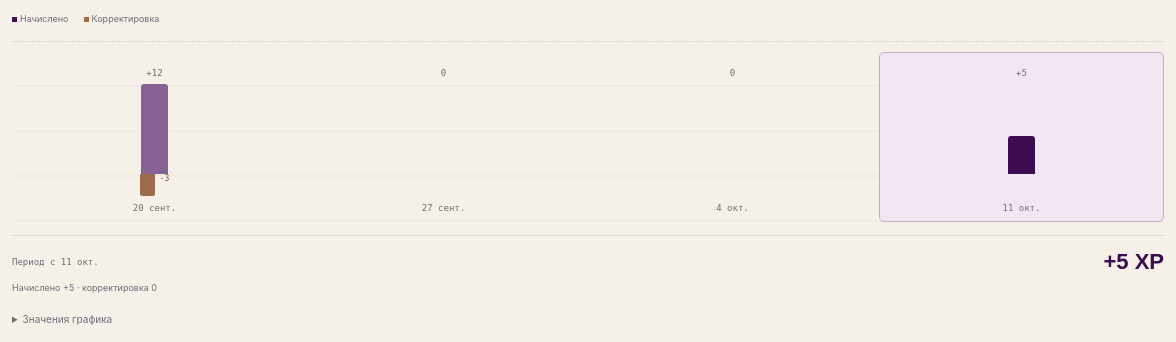
Test case: XP chart period selection › keeps signed corrections and the actual net value when selecting a period by touch/click
Step 1. Click the button "+12 -3 20 сент." → (154, 137), box [12, 52, 297, 222]
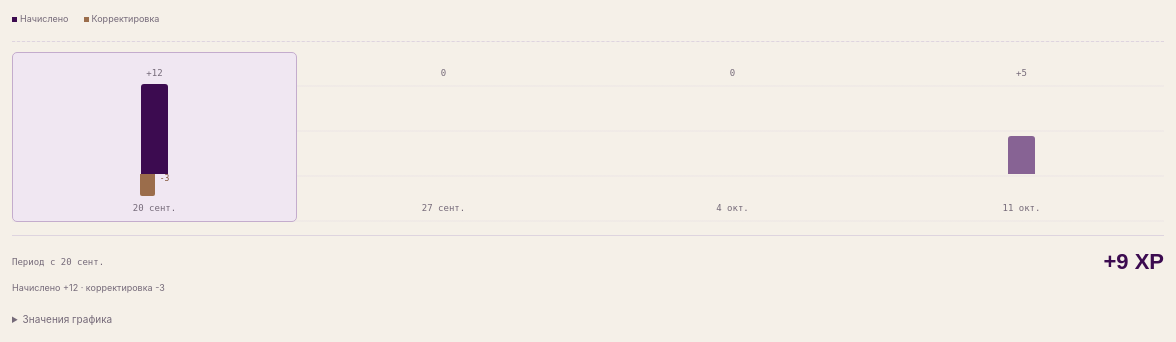
Check: the message shows "+9 XP", box [12, 235, 1164, 305]
Check: the message shows "Начислено +12 · корректировка -3", box [12, 235, 1164, 305]
